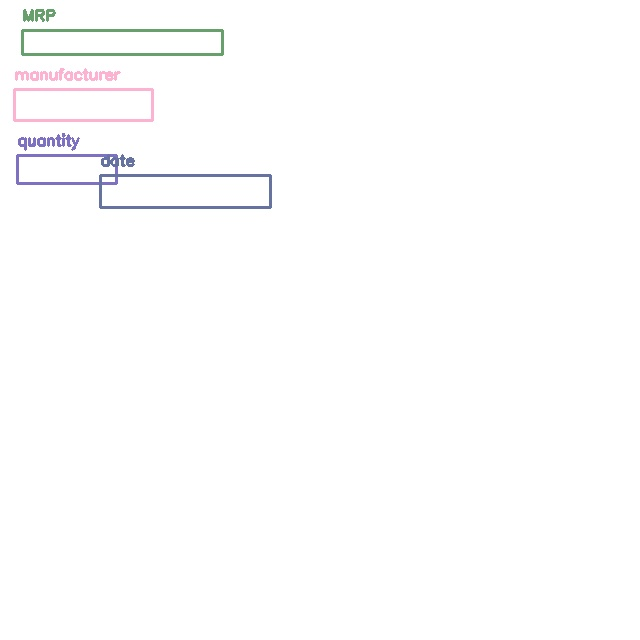MRP: (22, 30, 222, 54)
date: (100, 175, 270, 207)
manufacturer: (14, 89, 152, 120)
quantity: (17, 155, 116, 183)
